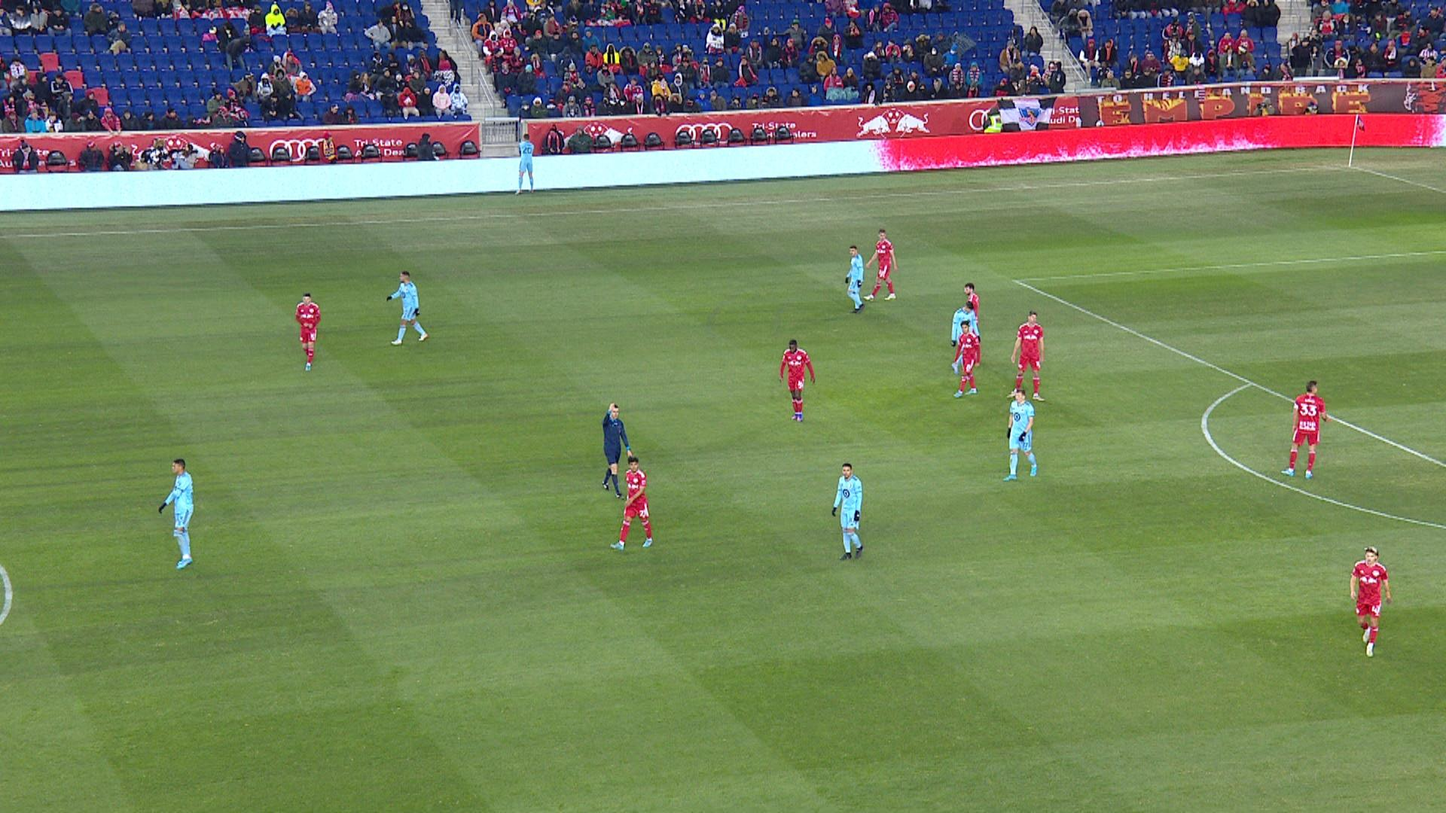Player: (1281, 381, 1333, 478), (1350, 547, 1392, 657), (610, 456, 653, 550), (159, 458, 194, 569), (1007, 310, 1045, 402), (1002, 389, 1038, 481), (831, 464, 864, 560), (386, 271, 428, 345), (779, 340, 816, 422), (863, 229, 899, 301), (953, 321, 980, 398), (295, 293, 320, 371), (951, 301, 981, 347), (845, 245, 865, 314), (516, 133, 535, 196), (964, 283, 981, 337), (951, 353, 963, 375)
referee: (602, 403, 633, 499)
